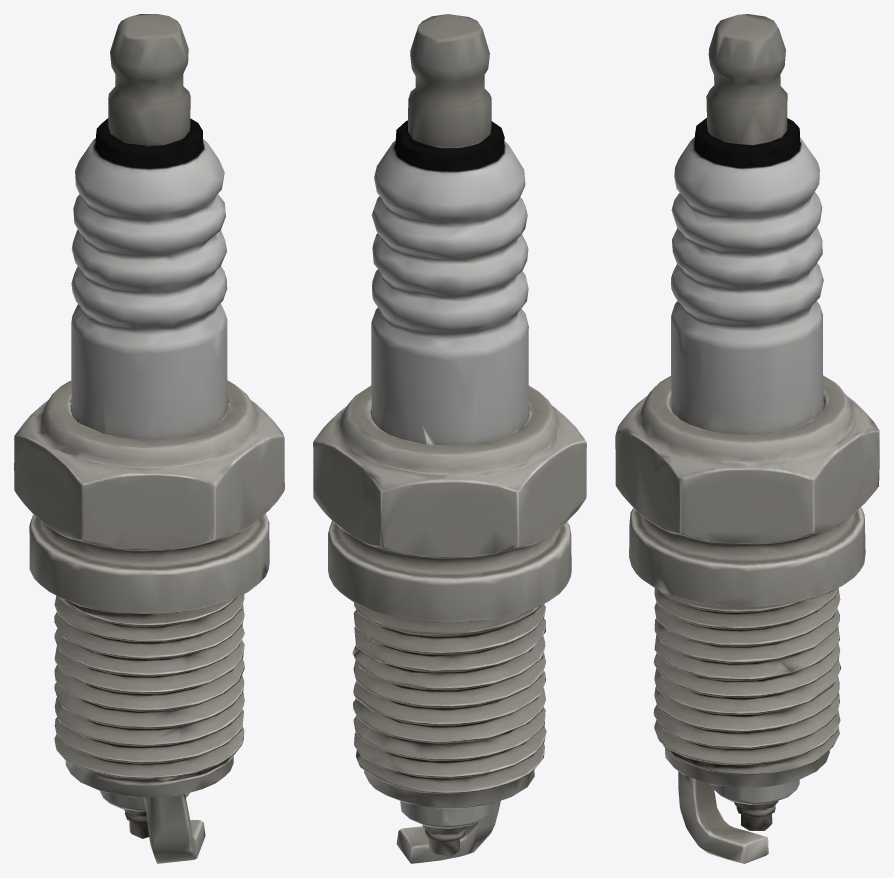
Rendered from spark-plug-cable-coil.glb.
The picture shows the model from 3 angles, left to right: view 1: azimuth 30°, elevation 25°; view 2: azimuth 150°, elevation 25°; view 3: azimuth 270°, elevation 25°; orthographic projection. The views are drawn at different scales.
Visible parts, largest first — view 1: tripo_node_8dc58070-dd7f-45de-9f54-80c0d43226a0; view 2: tripo_node_8dc58070-dd7f-45de-9f54-80c0d43226a0; view 3: tripo_node_8dc58070-dd7f-45de-9f54-80c0d43226a0.
Part boxes in pixels (bbox=[...]): tripo_node_8dc58070-dd7f-45de-9f54-80c0d43226a0: bbox=[14, 14, 284, 863]; tripo_node_8dc58070-dd7f-45de-9f54-80c0d43226a0: bbox=[313, 14, 586, 863]; tripo_node_8dc58070-dd7f-45de-9f54-80c0d43226a0: bbox=[615, 14, 879, 863].
Size of the model in its own units: 0.2637 by 1 by 0.293.
1 material, 1 textured.
